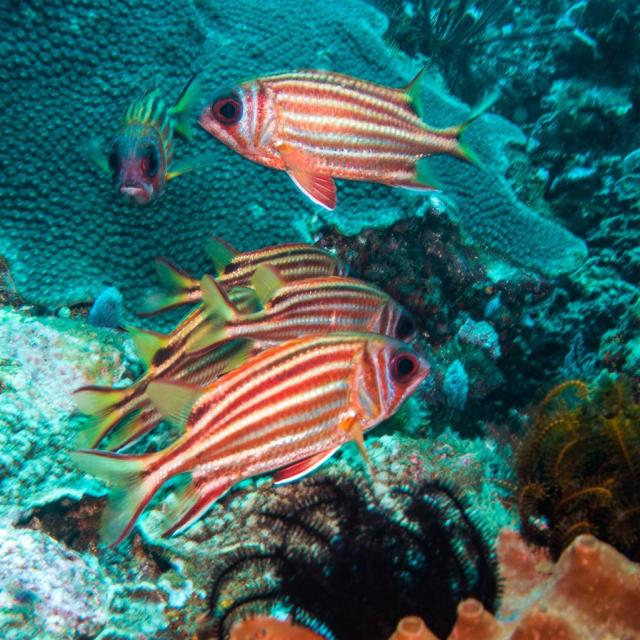Asker Baligi: (96, 342, 432, 550), (196, 58, 500, 212)
